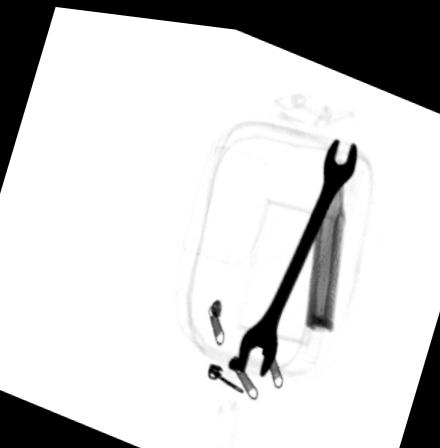Wrench: (235, 126, 358, 372)
